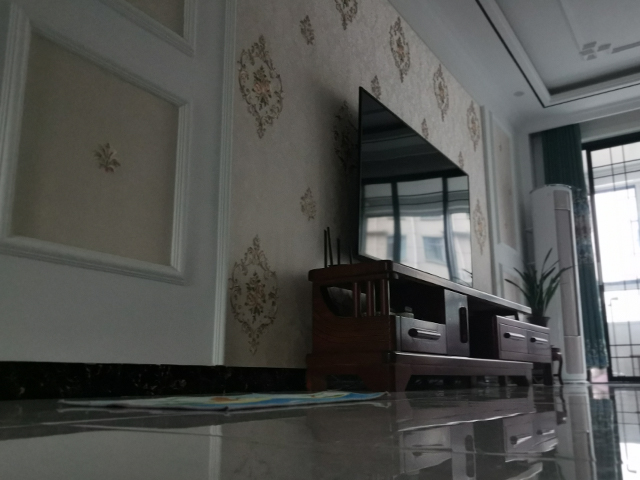cabinet: (302, 258, 556, 393)
carpet: (56, 390, 390, 414)
curtain: (538, 122, 612, 371)
stoolz: (544, 346, 564, 385)
